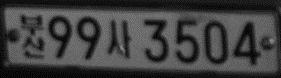0: (203, 19, 228, 64)
3: (144, 18, 169, 62)
4: (233, 21, 261, 66)
5: (175, 18, 200, 63)
9: (47, 14, 72, 58), (76, 15, 101, 59)
부산_V: (20, 13, 45, 58)
사: (106, 19, 132, 58)
